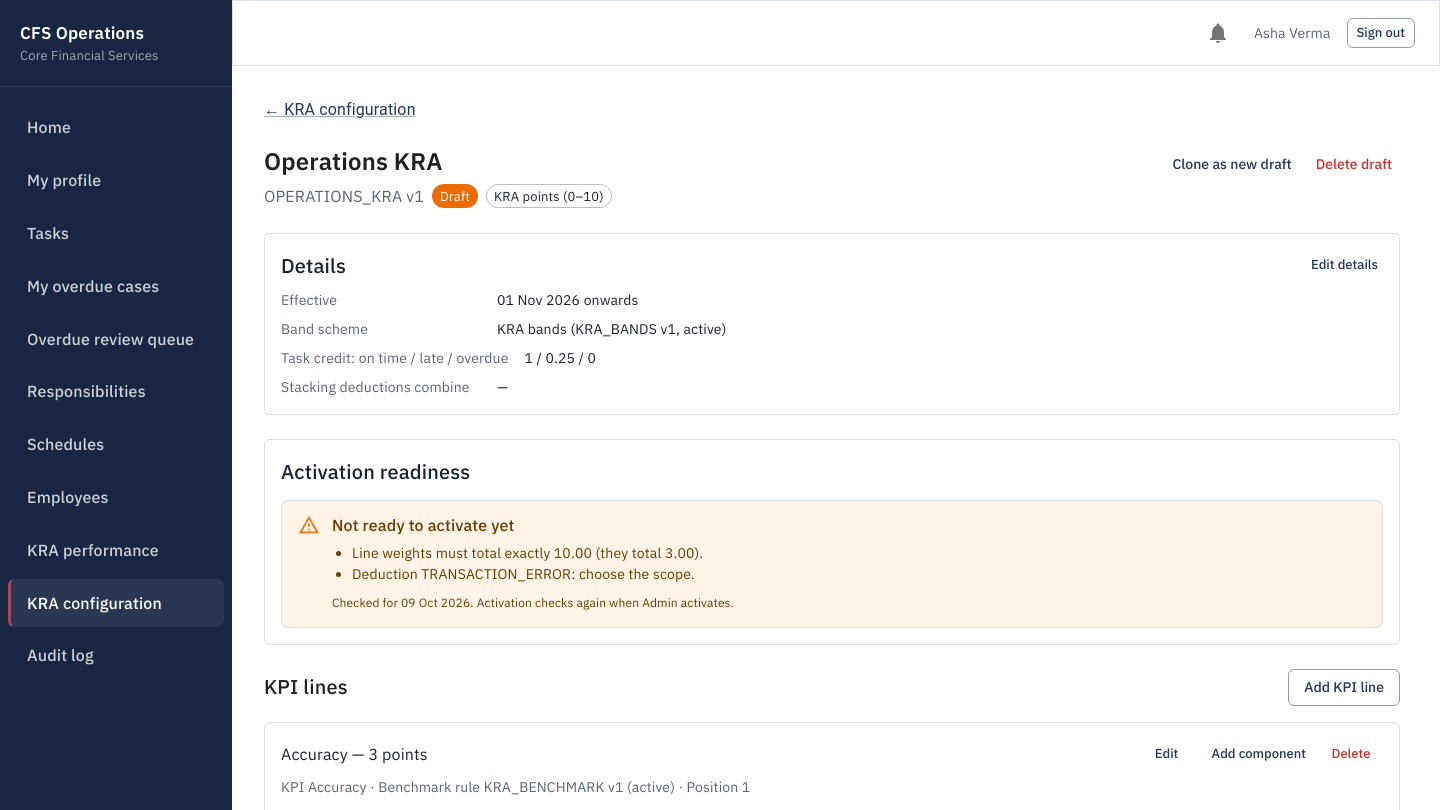
Test case: KRA plan editor (Phase 7.5A) › shows a 409 'configuration locked' as an alert in the dialog
Click the button "Edit details": x=1345, y=266 [1306,250,1383,281]
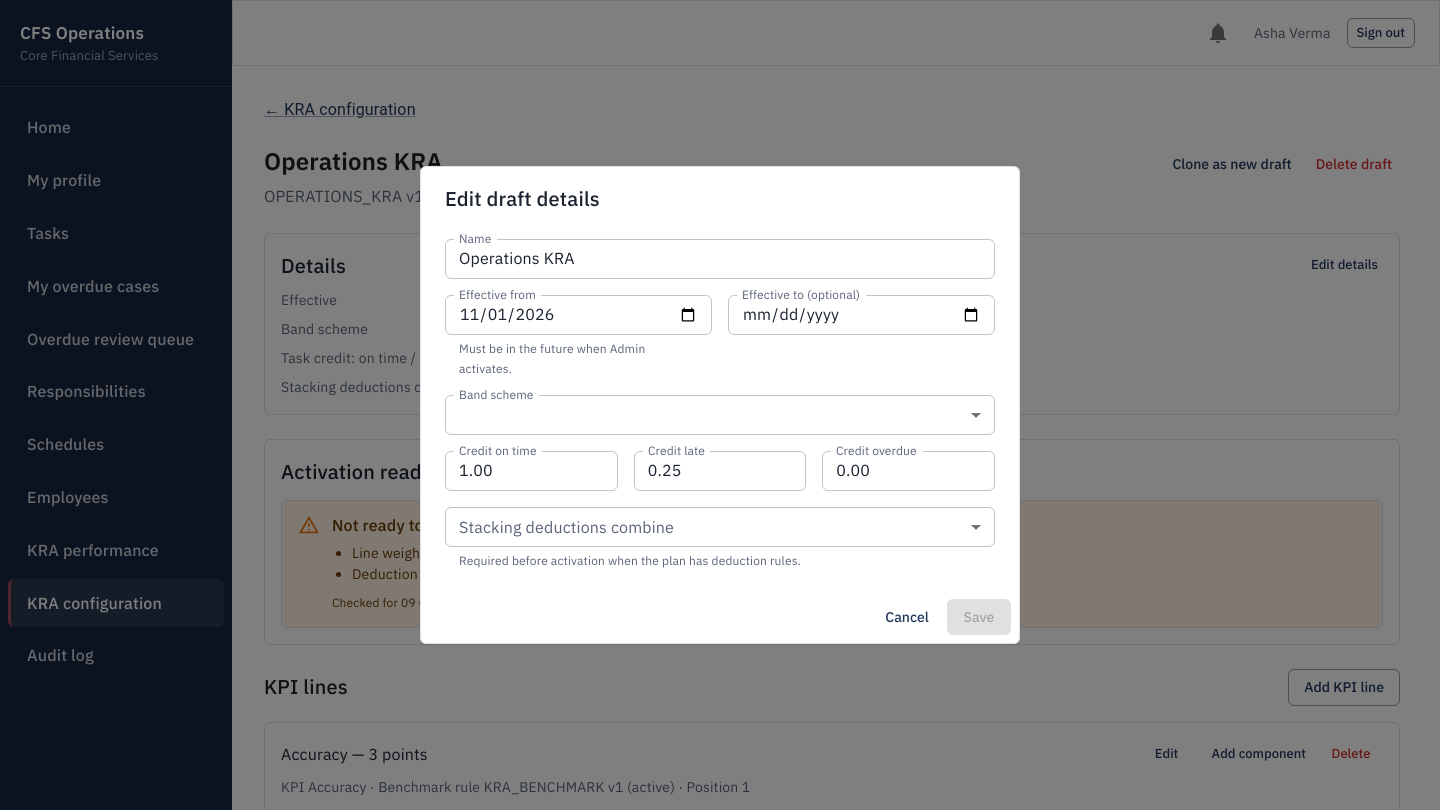
In the field labelled "Name": x=720, y=259 [445,239,995,279], type " (November)"
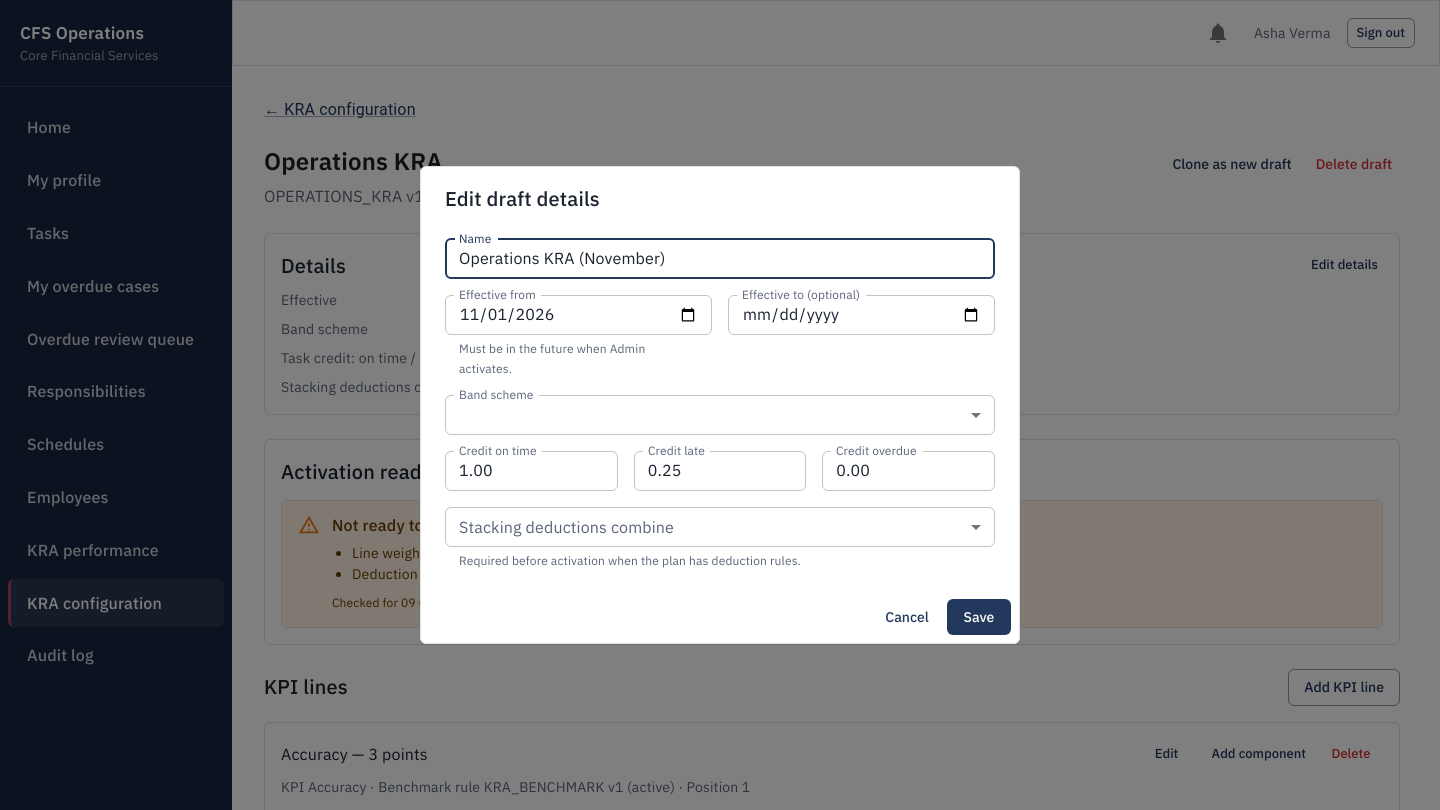
Click the button "Save": x=979, y=617 [947,599,1011,635]
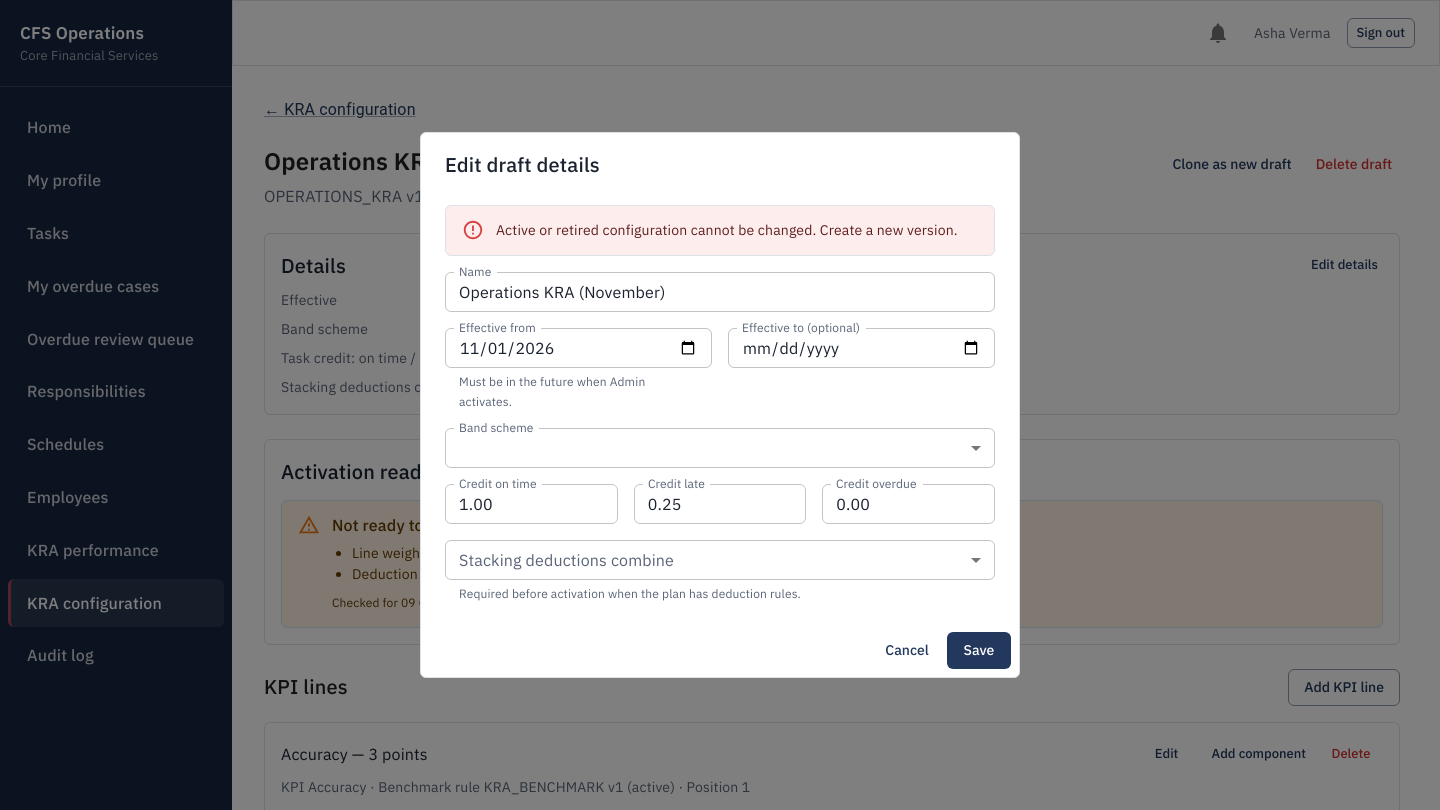
Result: the text "cannot be changed. Create a new version" is shown at [496,221,958,239]
